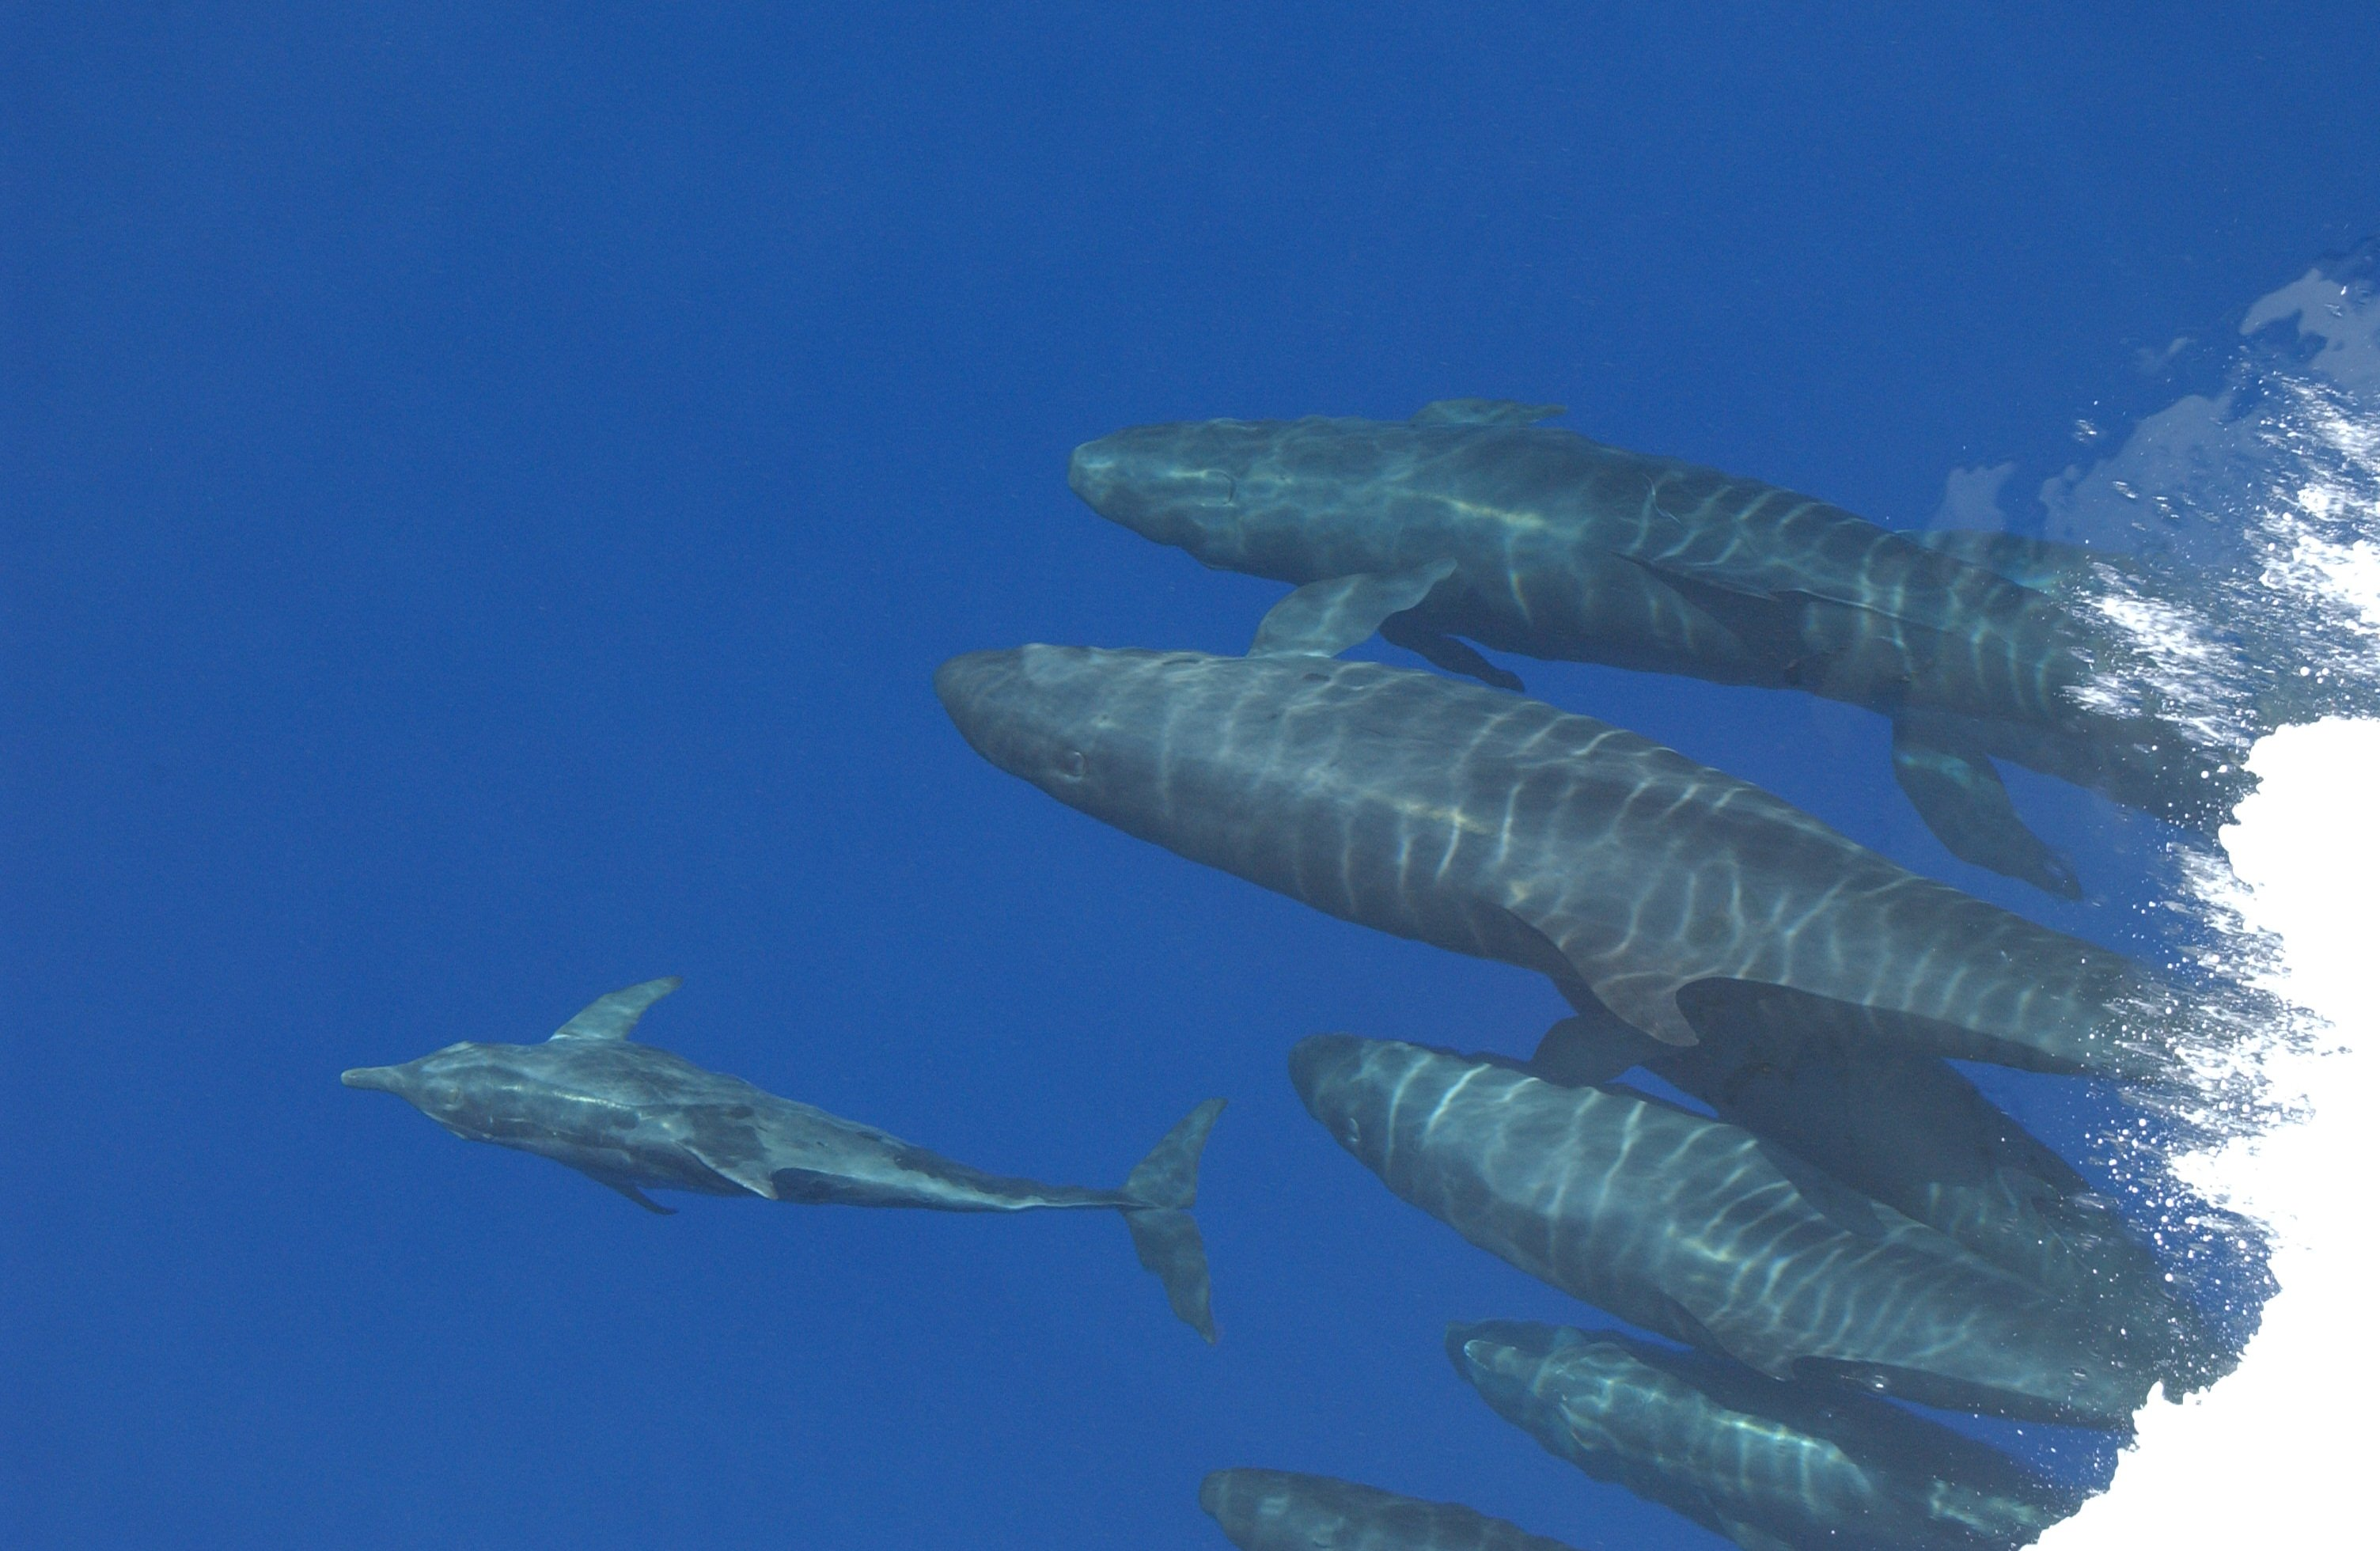dolphin: (940, 560, 2248, 1083), (1287, 1018, 2142, 1424), (340, 970, 1219, 1341), (1072, 399, 2064, 692)
